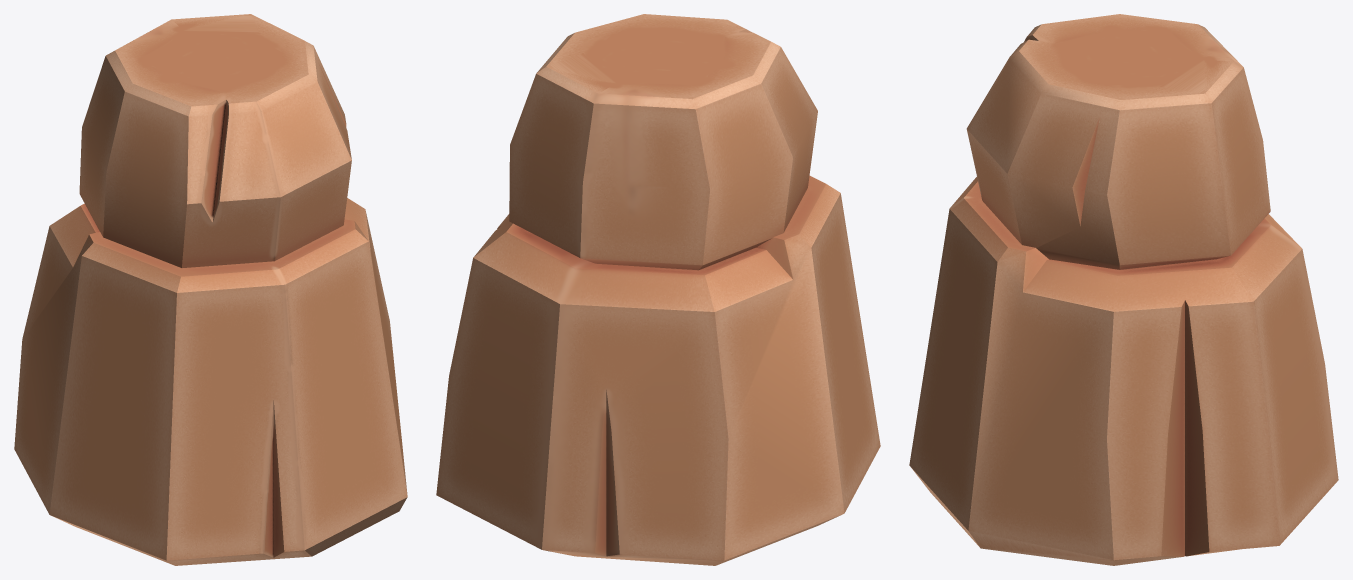
Rendered from Rock 14.fbx.
3 renders of one model, left to right at view 1: azimuth 30°, elevation 25°; view 2: azimuth 150°, elevation 25°; view 3: azimuth 270°, elevation 25°, orthographic. The views are drawn at different scales.
Parts seen in each view (by area): view 1: Rock_14; view 2: Rock_14; view 3: Rock_14.
Boxes of the visible parts, x1,y1,x2,y2 form: Rock_14: (14, 14, 407, 565); Rock_14: (436, 14, 880, 565); Rock_14: (909, 14, 1338, 565).
Bounding box in the file's own units: 2.59 × 3.05 × 2.72.
